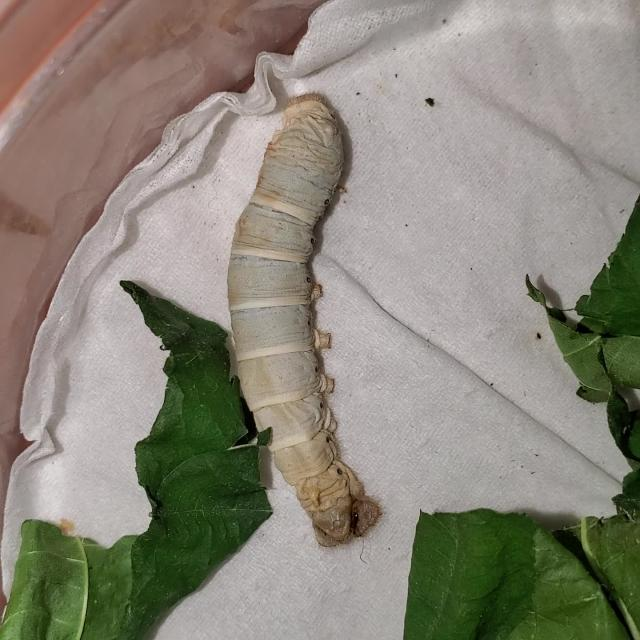Grasserie: (207, 79, 386, 549)
